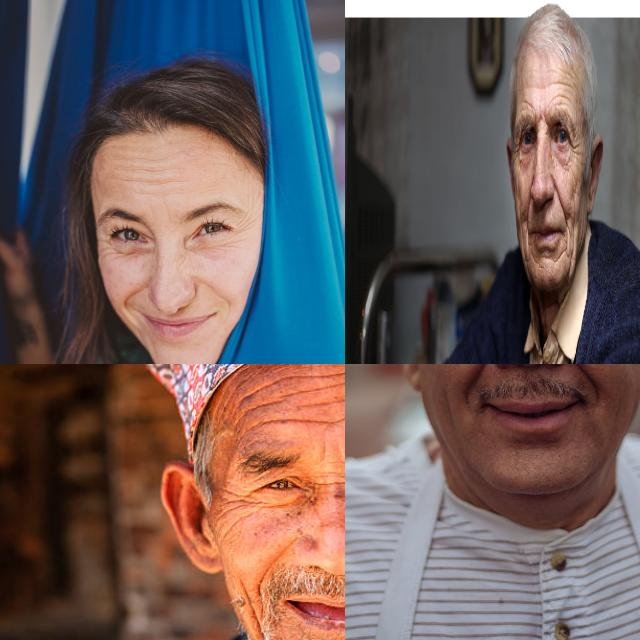chin: (553, 247, 564, 266), (530, 249, 540, 268), (540, 250, 552, 265)
crows_feet: (218, 488, 260, 518), (92, 233, 118, 261), (570, 129, 578, 164), (514, 135, 521, 165)
forehead: (241, 394, 293, 430), (128, 164, 182, 196), (304, 400, 345, 437), (295, 364, 345, 387), (240, 378, 276, 402), (554, 61, 575, 89), (551, 90, 570, 110), (519, 95, 534, 111)
frown_line: (318, 467, 345, 491), (536, 109, 548, 130)
gummy_smile: (250, 547, 278, 593), (202, 276, 232, 308), (114, 284, 150, 310), (568, 364, 602, 390), (461, 364, 494, 390), (554, 180, 567, 220), (523, 192, 532, 226)
masseter: (238, 595, 266, 637), (571, 180, 578, 237), (518, 210, 526, 256)
sad_smile: (526, 230, 532, 266), (564, 225, 570, 257)
